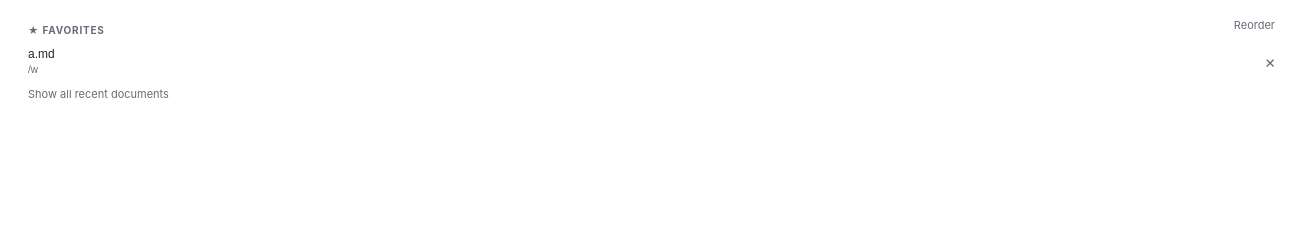
Test: 순서 편집은 전체 목록을 펼치고 저장 후 이동한 문서의 포커스와 위치를 알려 준다
Expected: the number of list items is 1, [12, 40, 1291, 82]
Click the button "Reorder": (1254, 25) [1229, 13, 1280, 37]
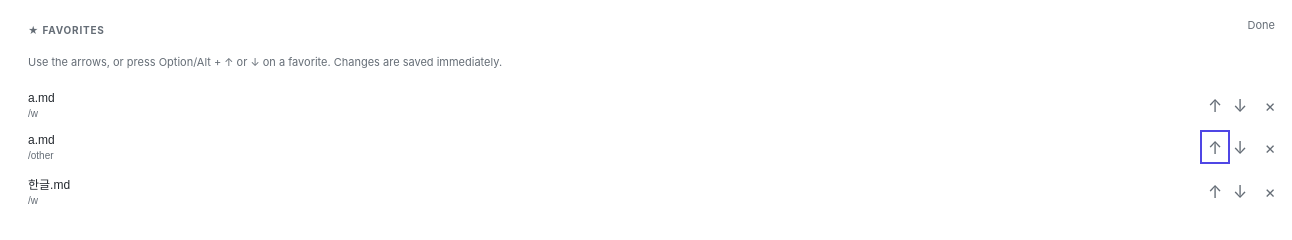
Result: the number of list items is 3 at [12, 84, 1291, 126]; [12, 126, 1291, 168]; [12, 168, 1291, 213]
Click the 2nd button "↑": (1215, 147) [1203, 133, 1227, 161]
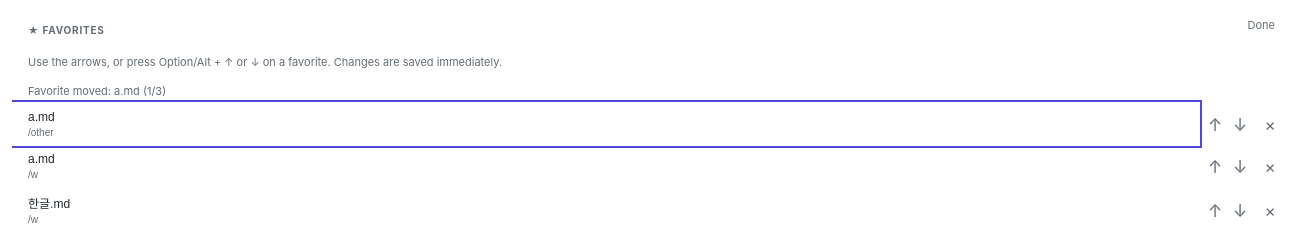
Result: the message "Favorite moved: a.md (1/3)" is shown at [28, 84, 166, 98]
Click the button "Done": (1261, 25) [1242, 13, 1280, 37]
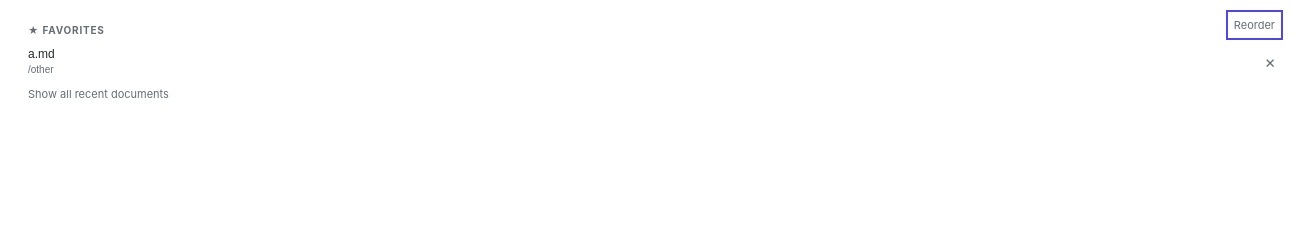
Result: the number of list items is 1 at [12, 40, 1291, 82]
